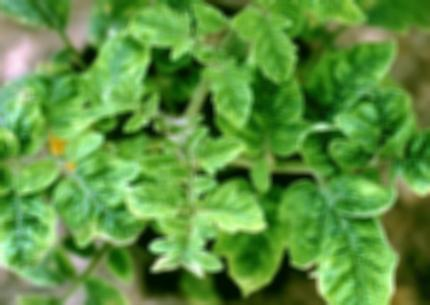Tomato leaf yellow virus: (290, 172, 403, 305), (37, 152, 142, 257), (303, 39, 403, 132), (228, 1, 300, 90), (0, 181, 64, 279), (82, 28, 150, 103), (190, 180, 266, 245), (123, 3, 201, 62), (117, 174, 192, 228)
